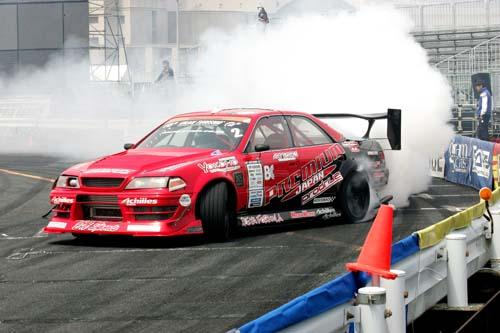smoke: (164, 6, 454, 123)
